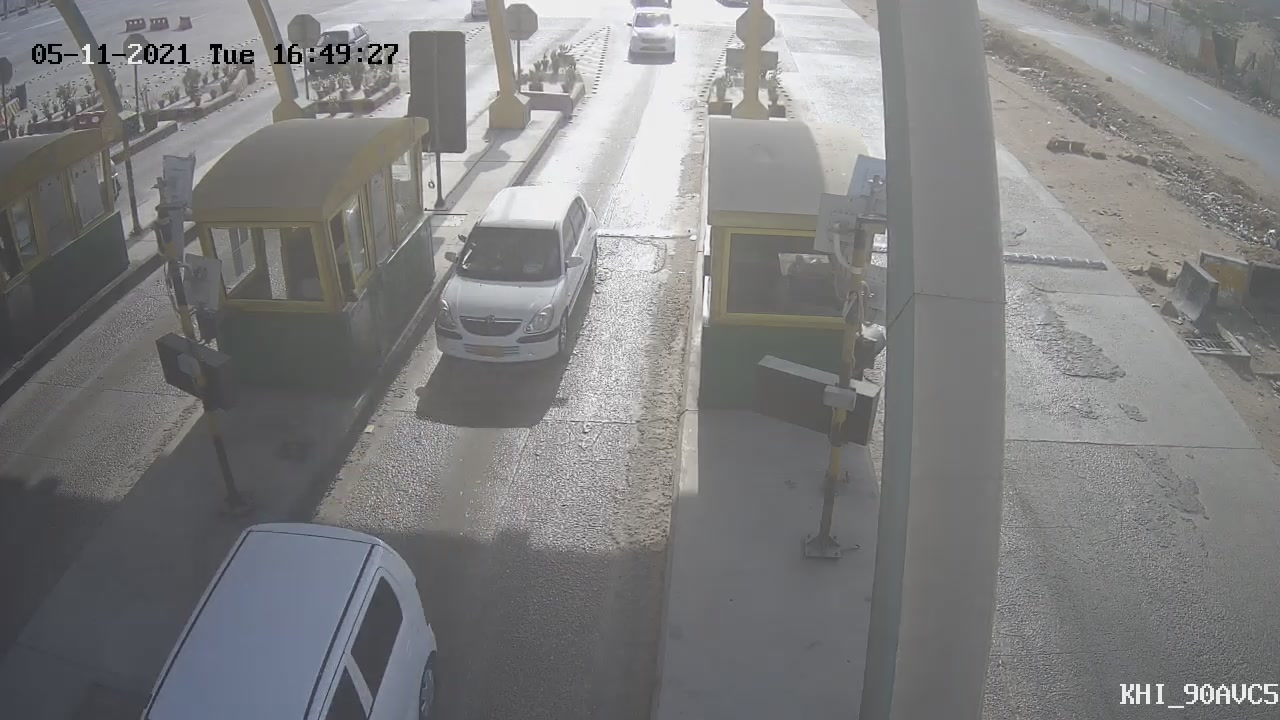F1: (413, 172, 617, 379)
